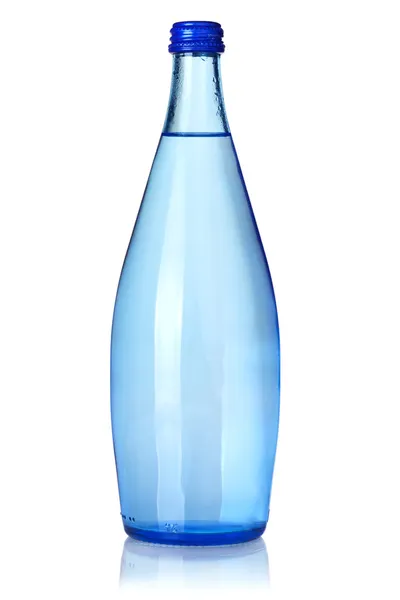glass_bottle: (101, 13, 301, 560)
